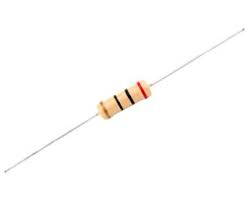resistor: (90, 70, 173, 146)
